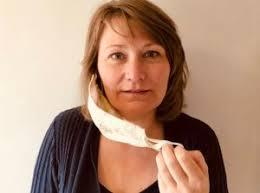Wore Mask Incorrectly: (73, 7, 205, 160)
